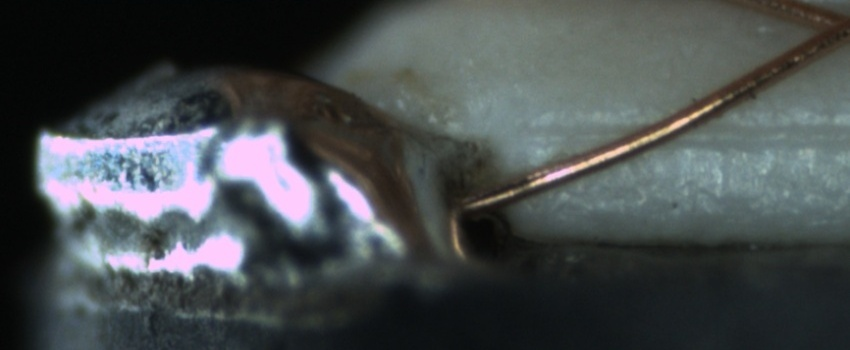CL: (792, 3, 849, 56)
DL: (542, 96, 847, 162)
